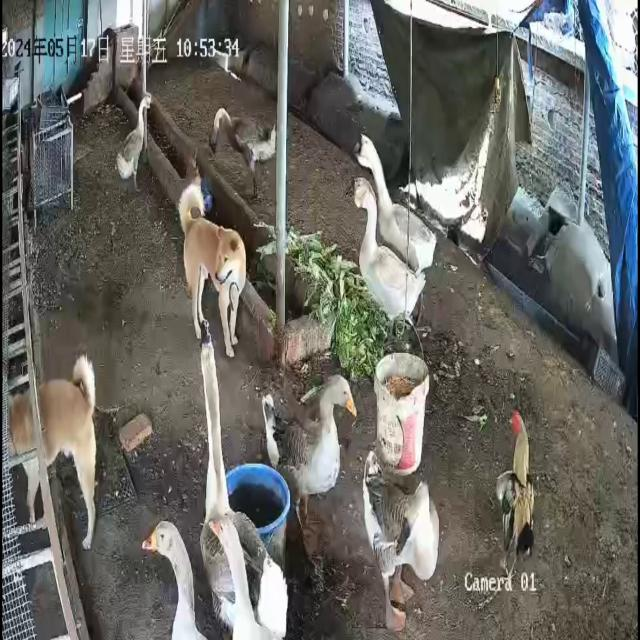dog: (8, 353, 98, 552), (179, 183, 248, 359)
